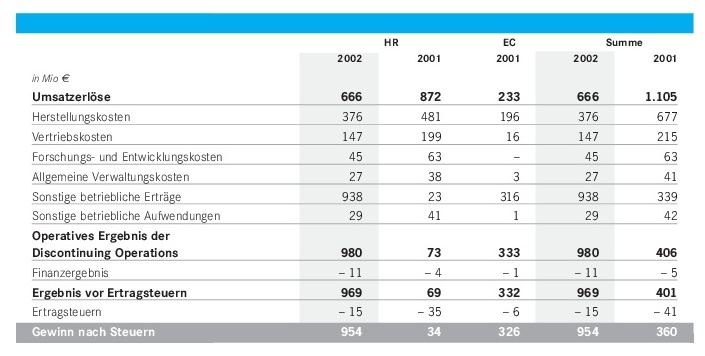table: (0, 0, 705, 356)
